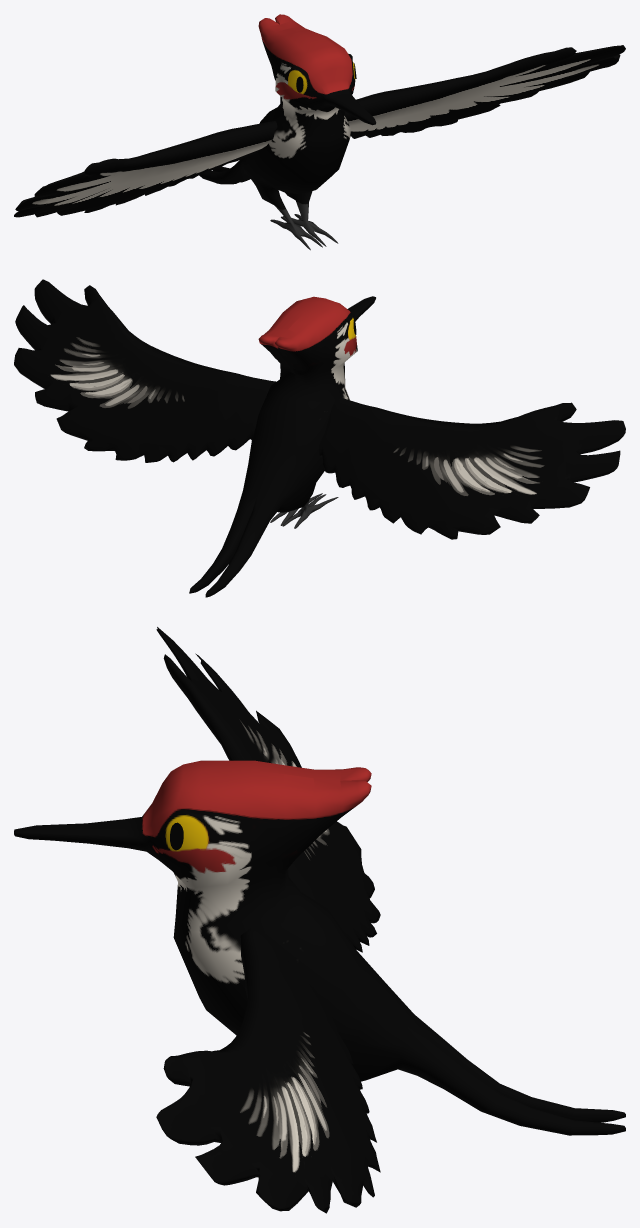
The model's file is Woodpecker.fbx.
3 renders of one model, top to bottom at view 1: azimuth 30°, elevation 25°; view 2: azimuth 150°, elevation 25°; view 3: azimuth 270°, elevation 25°, orthographic. The views are drawn at different scales.
Visible parts, largest first — view 1: Woodpecker; view 2: Woodpecker; view 3: Woodpecker.
Part boxes in pixels (x1=…): Woodpecker: x1=14, y1=14, x2=625, y2=250; Woodpecker: x1=14, y1=279, x2=625, y2=597; Woodpecker: x1=14, y1=627, x2=625, y2=1213.
Size of the model in its own units: 26.82 by 8.81 by 13.65.
Materials: 2 (1 with a texture image).
